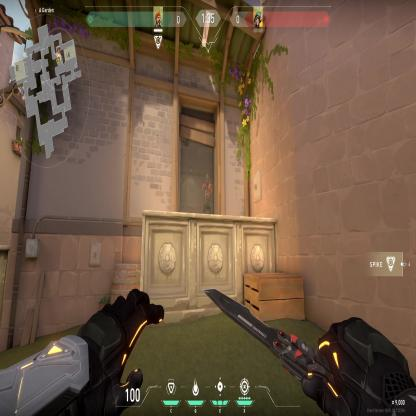enemy: (201, 171, 214, 214)
